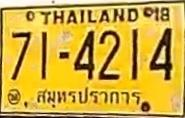1: (131, 28, 138, 80), (41, 30, 46, 80)
2: (98, 29, 119, 79)
4: (148, 27, 172, 79), (73, 30, 94, 78)
7: (11, 31, 31, 80)
SPK: (35, 85, 143, 108)
